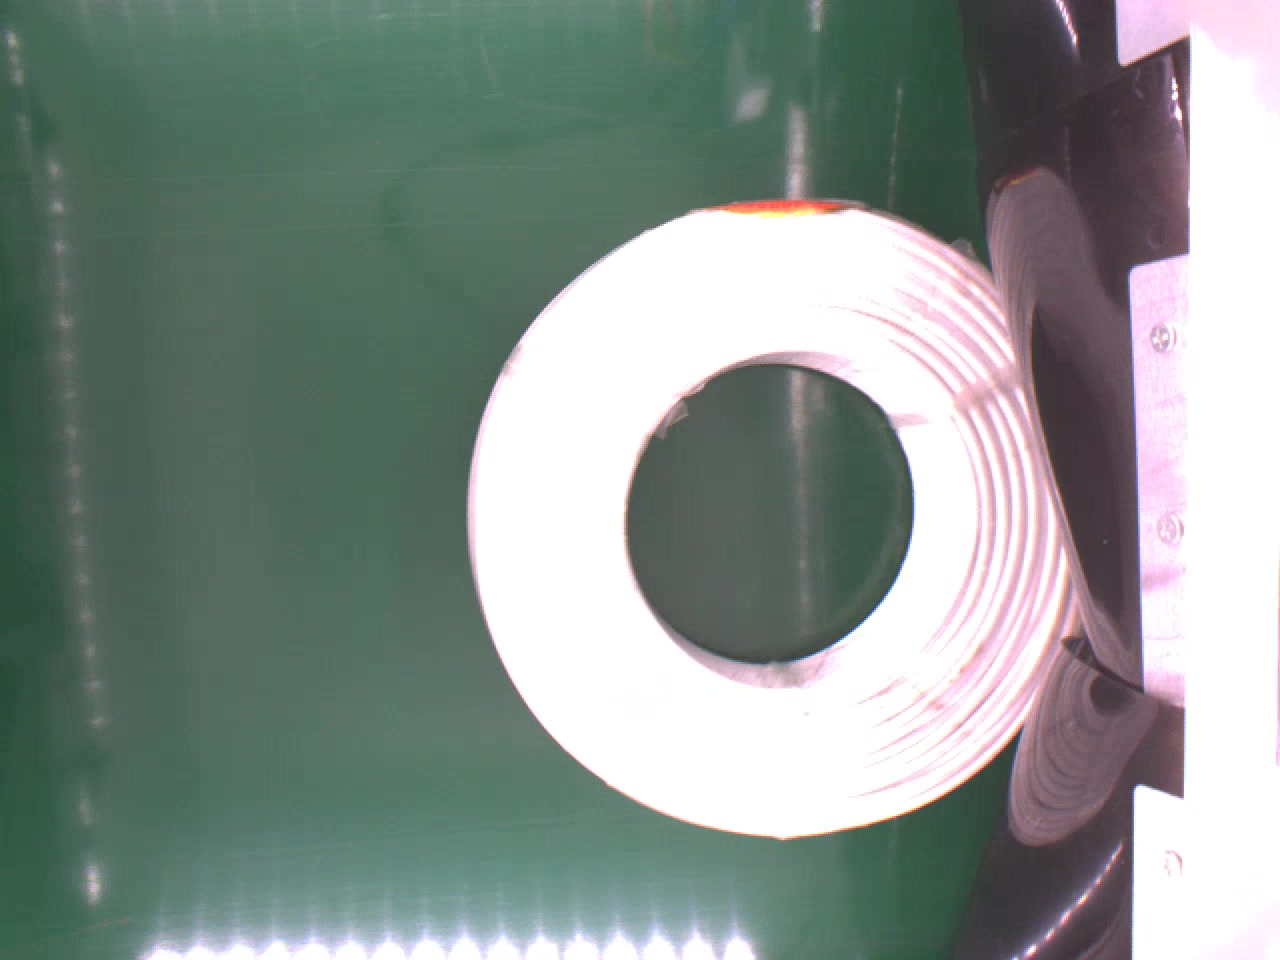white: (463, 191, 1078, 841)
